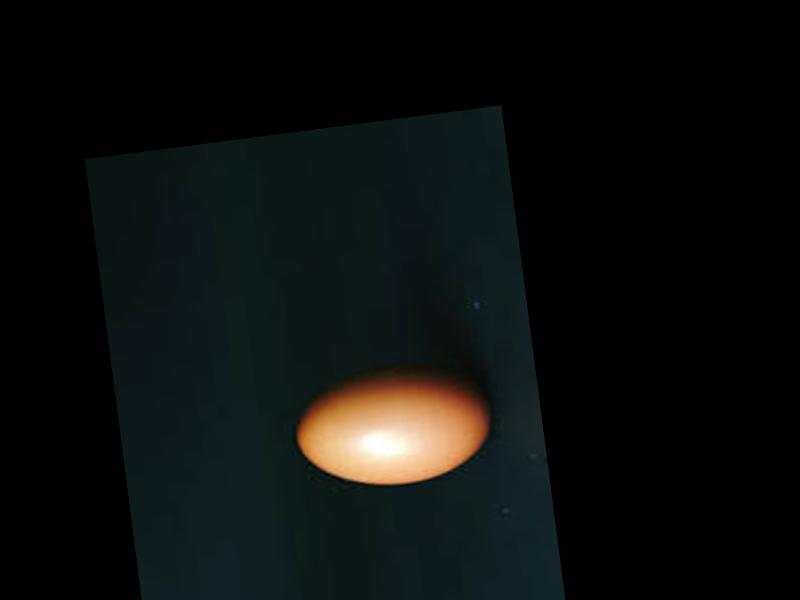Eggs: (290, 358, 498, 494)
